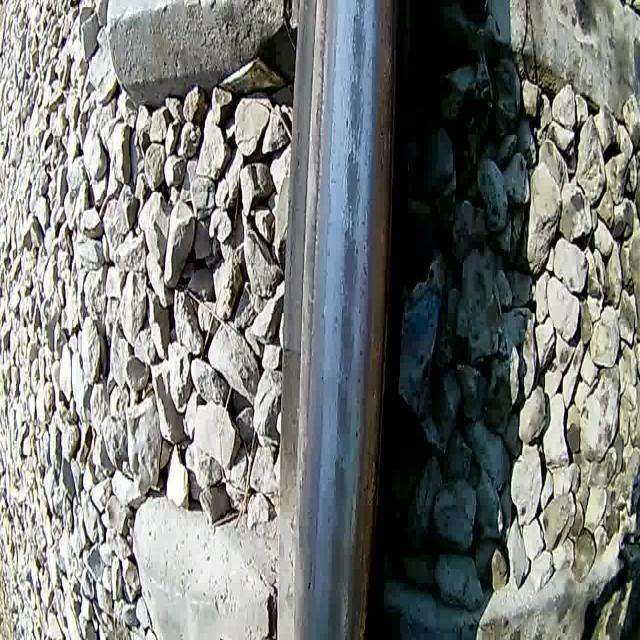Cracks: (344, 98, 366, 167), (341, 190, 364, 242), (349, 0, 359, 79)
Squats: (338, 223, 362, 308), (329, 379, 355, 456), (343, 74, 367, 150), (322, 526, 349, 592), (347, 0, 370, 77), (334, 304, 356, 381), (342, 147, 363, 226), (328, 455, 351, 526), (321, 590, 348, 640)
